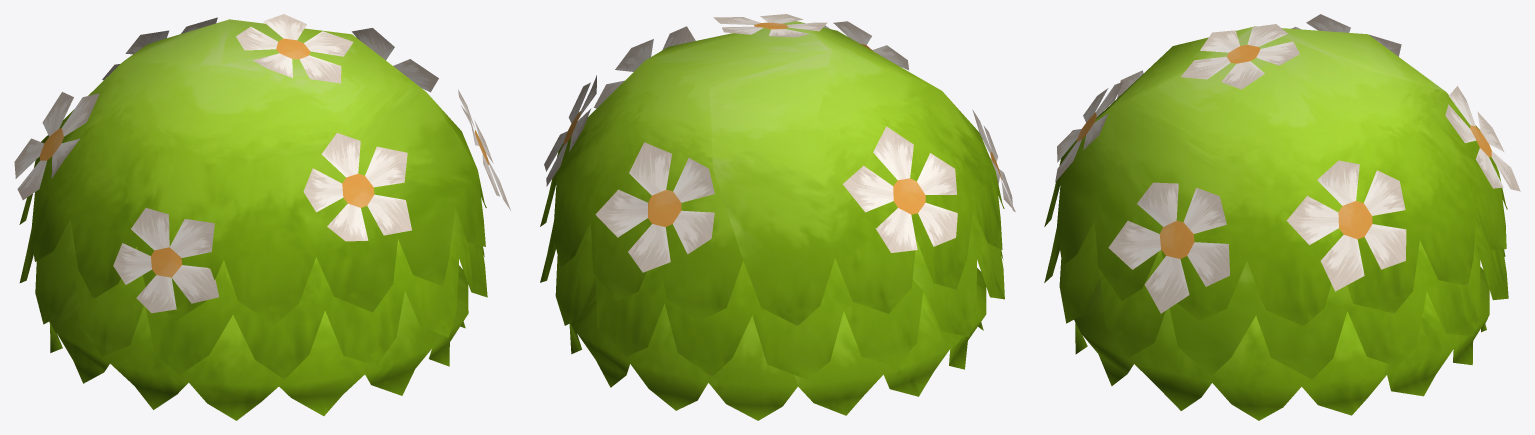
File: Obj_Bush.gltf
3 views of the same model, side by side, from view 1: azimuth 30°, elevation 25°; view 2: azimuth 150°, elevation 25°; view 3: azimuth 270°, elevation 25° (orthographic).
Parts seen in each view (by area): view 1: Obj_Bush; view 2: Obj_Bush; view 3: Obj_Bush.
Part boxes in pixels (bbox=[...]): Obj_Bush: bbox=[14, 14, 510, 420]; Obj_Bush: bbox=[540, 14, 1015, 420]; Obj_Bush: bbox=[1044, 14, 1520, 420].
Size of what is drawn, in the model's own units: 1.88 by 1.31 by 1.89.
1 material, 1 textured.
